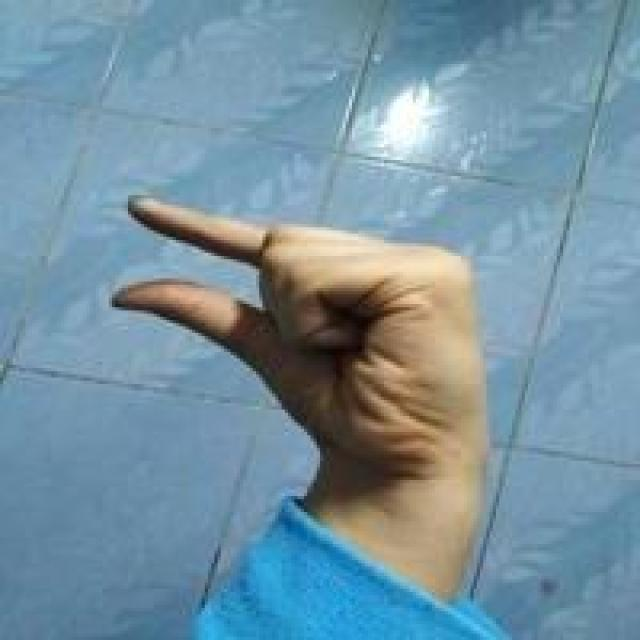G: (110, 187, 485, 504)
